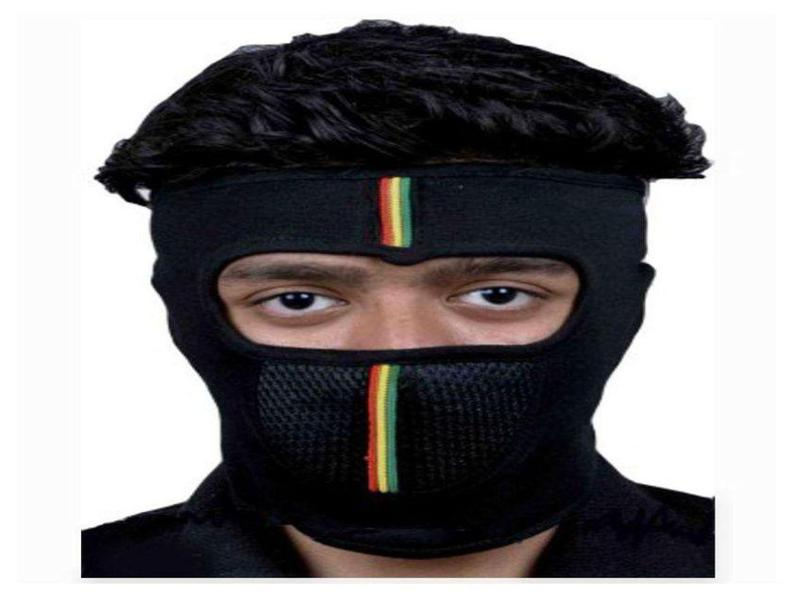with_mask: (147, 152, 658, 559)
